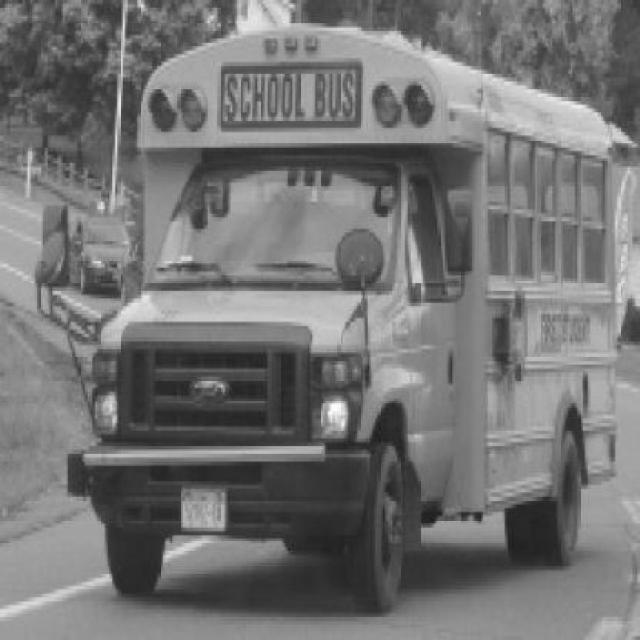Bus- Small: (64, 24, 623, 617)
